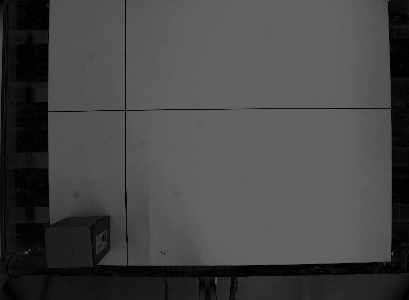b5: (42, 213, 111, 269)
